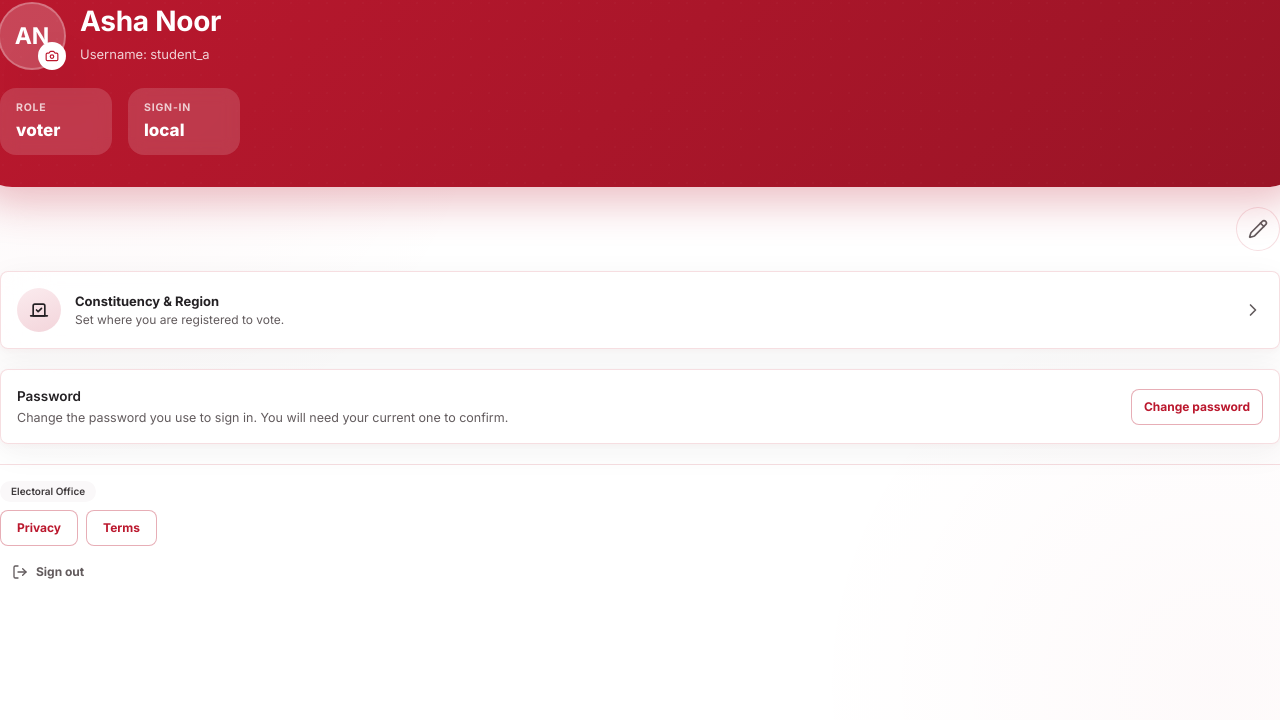
Test: ProfilePage › surfaces a refused email edit instead of pretending it saved
Click the button named "Edit profile" at (1258, 229), box [1236,207,1279,251]
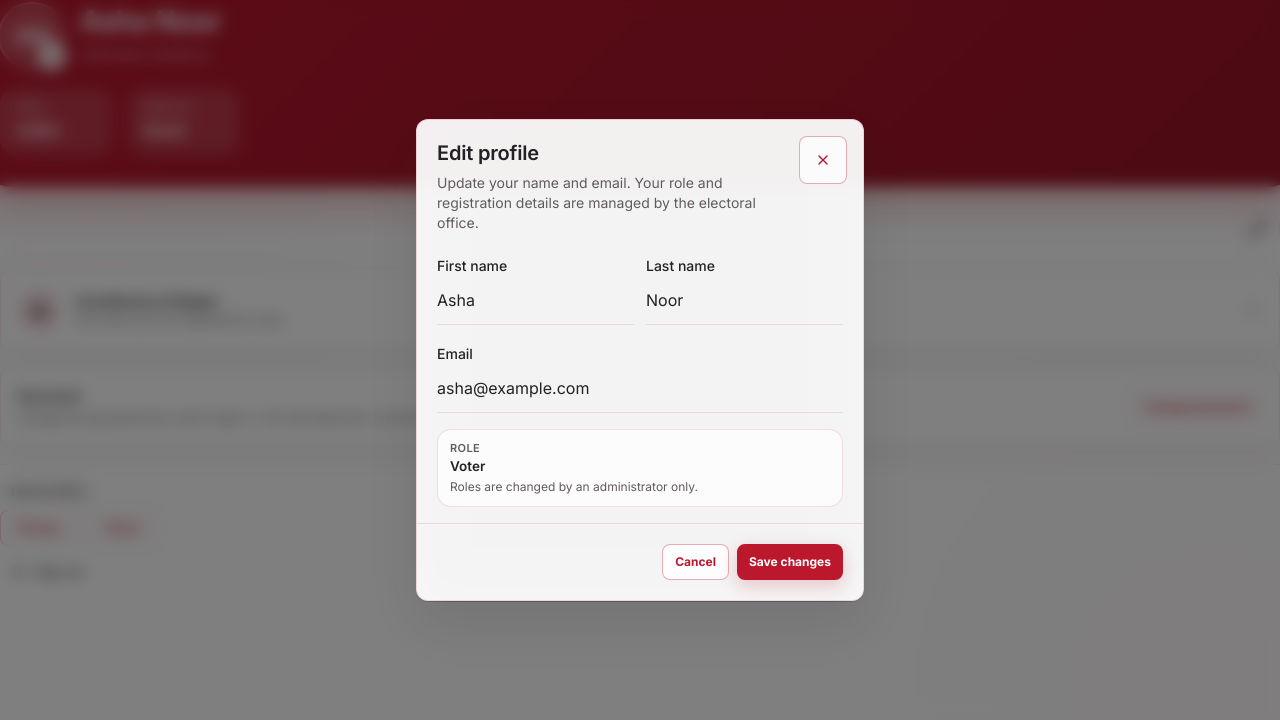
Replace the text in the field labelled "Email" with "taken@example.com" at (640, 389), box [437,365,843,413]
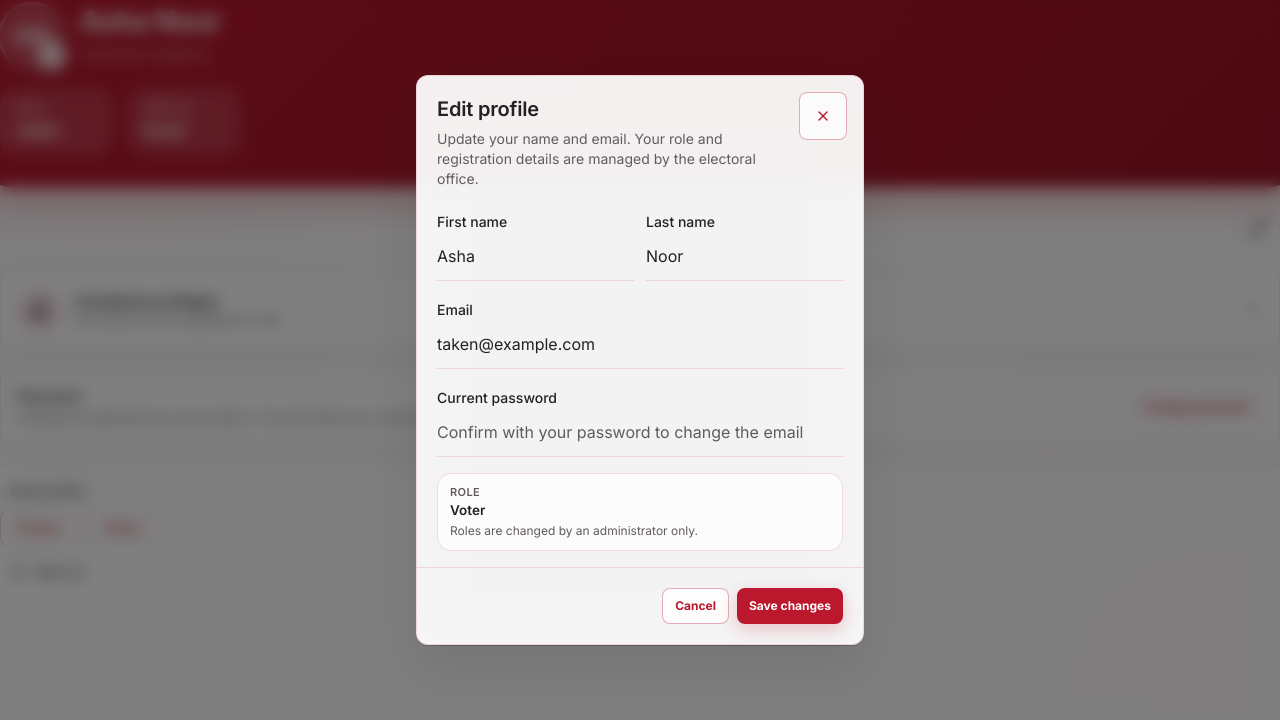
Click the button "Save changes" at (790, 606), box [737,588,843,624]
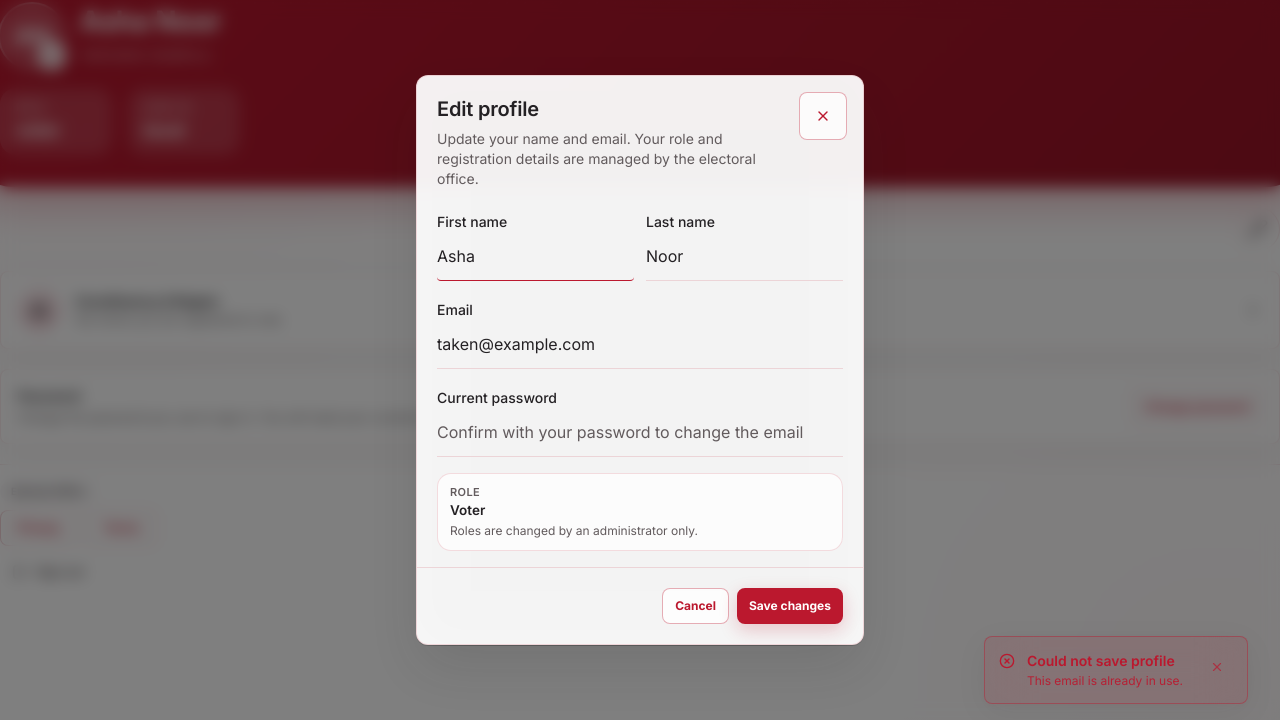
Expected: the text "Could not save profile" is shown, [1027,651,1183,671]
Expected: the text "This email is already in use." is shown, [1027,673,1183,689]
